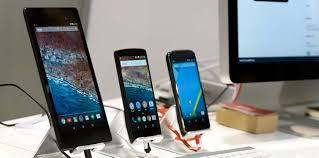Smartphone: (25, 5, 115, 143), (113, 49, 158, 139), (167, 50, 213, 134)
